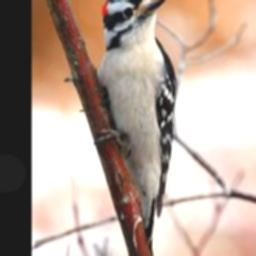Woodpecker: (91, 0, 175, 256)
